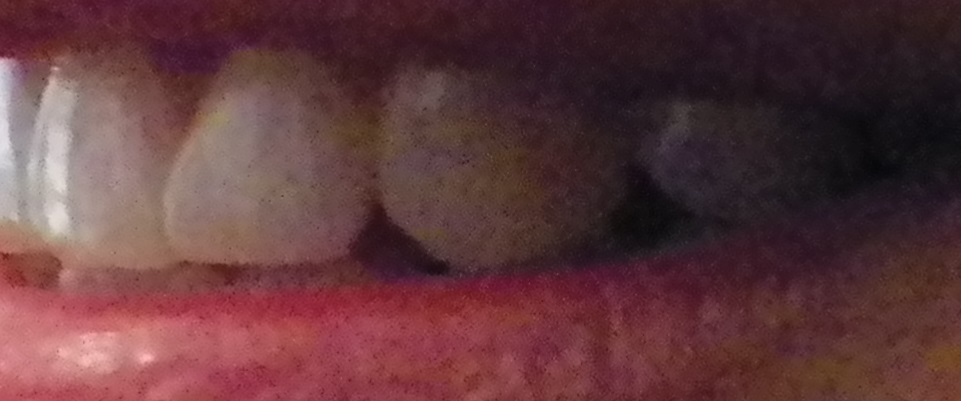boca: (7, 40, 865, 313)
